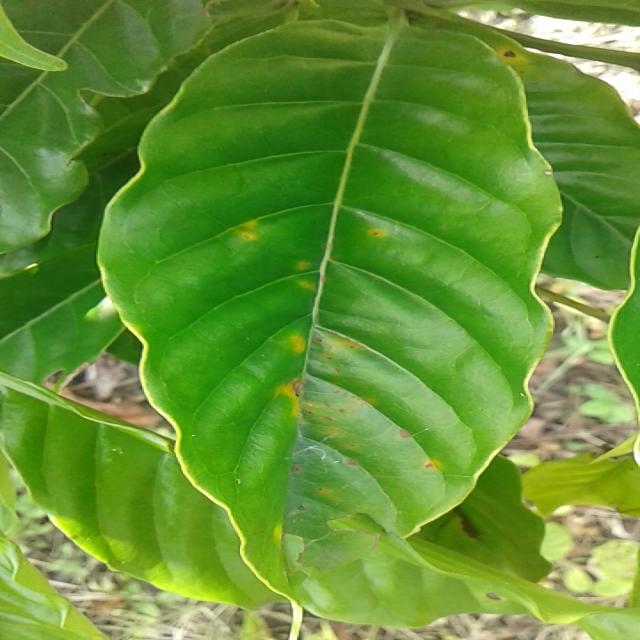Enfermedad-Roya: (94, 20, 561, 594)
